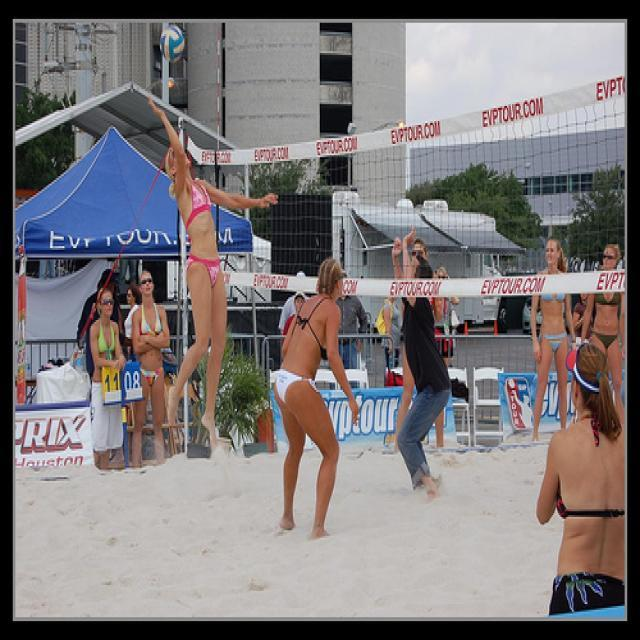volleyball: (159, 26, 184, 63)
